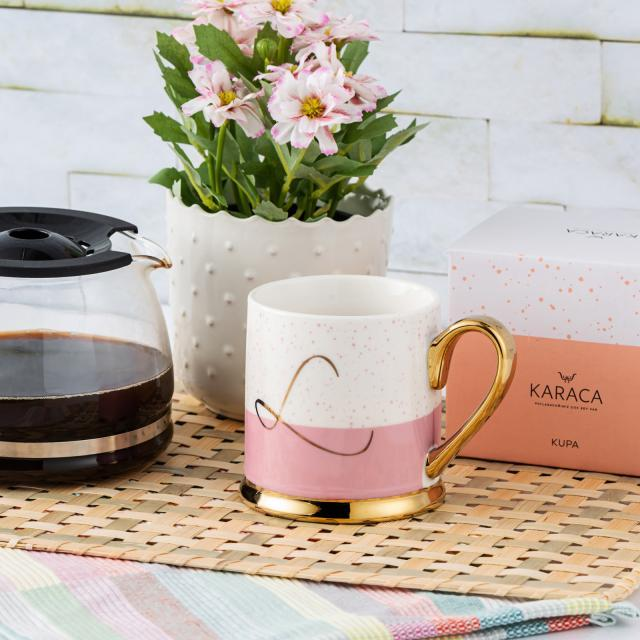Coffee Mug: (238, 270, 519, 526)
